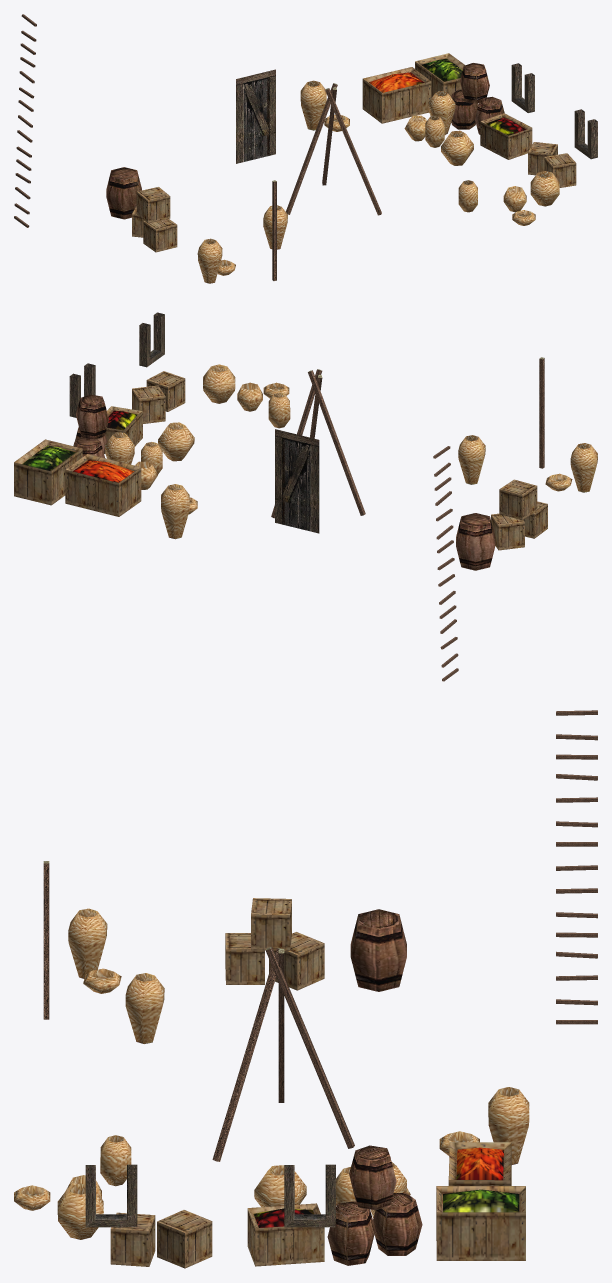
Rendered from celt_temple_prop_1.dae.
3 views of the same model, one above another, from view 1: azimuth 30°, elevation 25°; view 2: azimuth 150°, elevation 25°; view 3: azimuth 270°, elevation 25° (orthographic). The views are drawn at different scales.
Visible parts, largest first — view 1: Object031; view 2: Object031; view 3: Object031.
Part boxes in pixels (<box>): Object031: <box>14,14,597,283</box>; Object031: <box>14,312,597,681</box>; Object031: <box>14,710,597,1268</box>.
Bounding box in the file's own units: 20.64 × 9.44 × 15.67.
